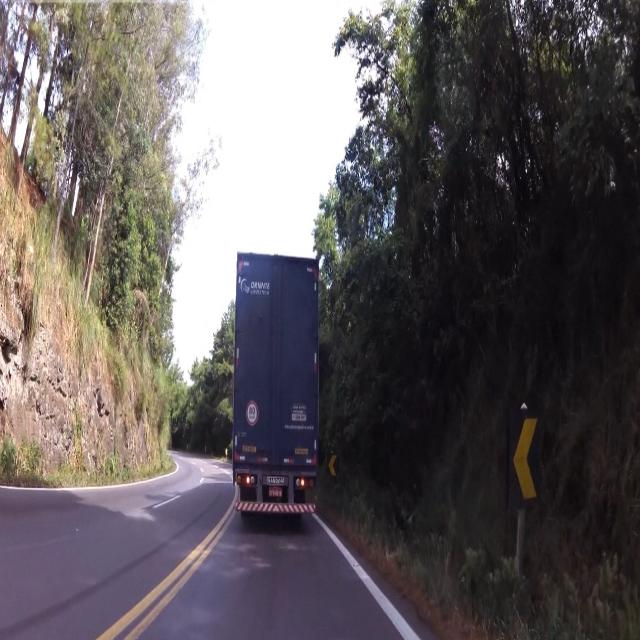Del: (504, 396, 546, 515)
